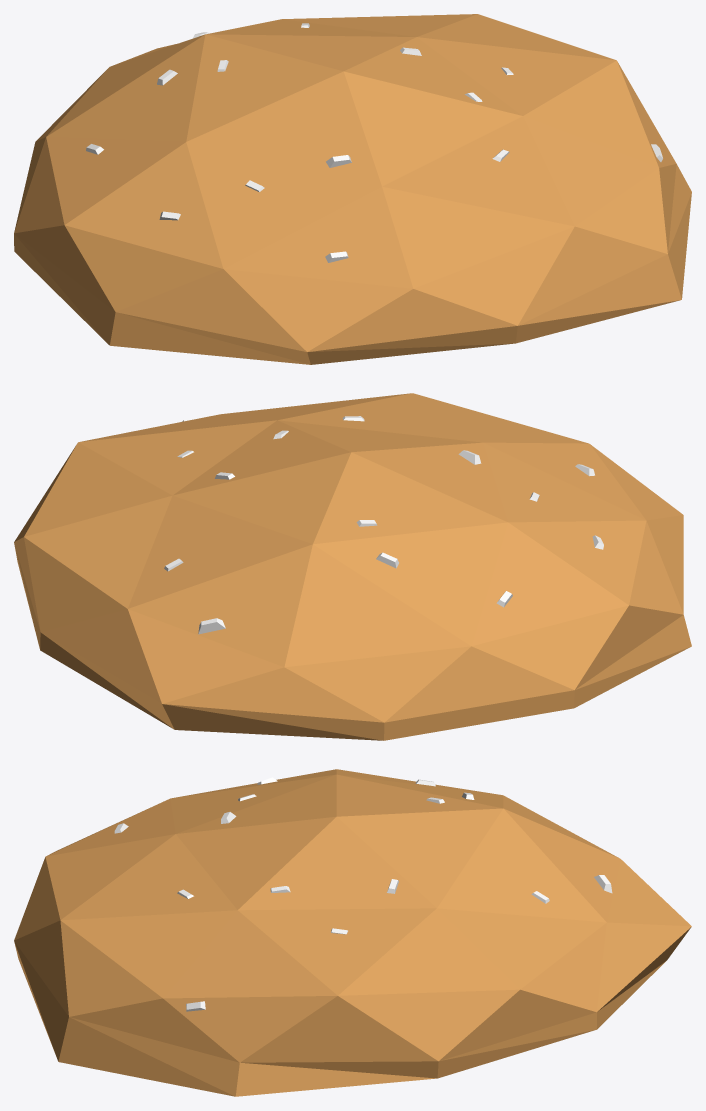
The model's file is Burger_Bread.obj.
The picture shows the model from 3 angles, top to bottom: view 1: azimuth 30°, elevation 25°; view 2: azimuth 150°, elevation 25°; view 3: azimuth 270°, elevation 25°; orthographic projection. The views are drawn at different scales.
Parts seen in each view (by area): view 1: Burger_Bread_LightYellow, Burger_Bread_White; view 2: Burger_Bread_LightYellow, Burger_Bread_White; view 3: Burger_Bread_LightYellow, Burger_Bread_White.
Boxes of the visible parts, x1,y1,x2,y2 form: Burger_Bread_LightYellow: (14, 14, 691, 364); Burger_Bread_White: (86, 23, 662, 262); Burger_Bread_LightYellow: (14, 393, 691, 740); Burger_Bread_White: (164, 416, 603, 634); Burger_Bread_LightYellow: (14, 769, 691, 1096); Burger_Bread_White: (114, 777, 612, 1011).
Bounding box in the file's own units: 1.48 × 0.4047 × 1.58.
